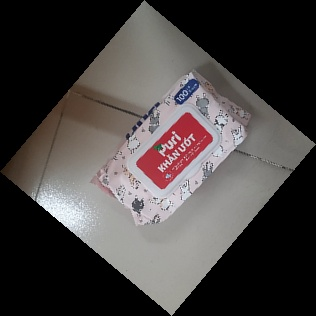Puri hong: (89, 68, 253, 228)
